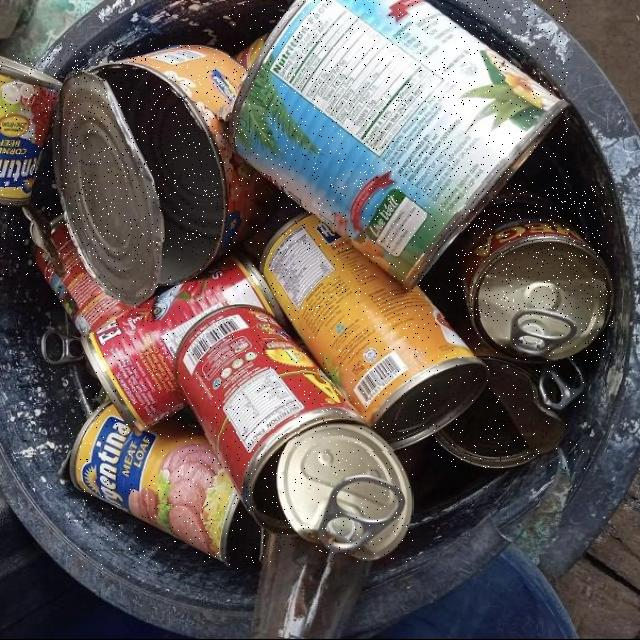metal: (229, 0, 569, 292), (174, 305, 413, 562), (53, 45, 278, 305), (259, 213, 491, 451), (81, 252, 300, 433), (69, 402, 261, 569), (461, 183, 613, 362), (436, 318, 585, 469), (0, 55, 65, 278)
